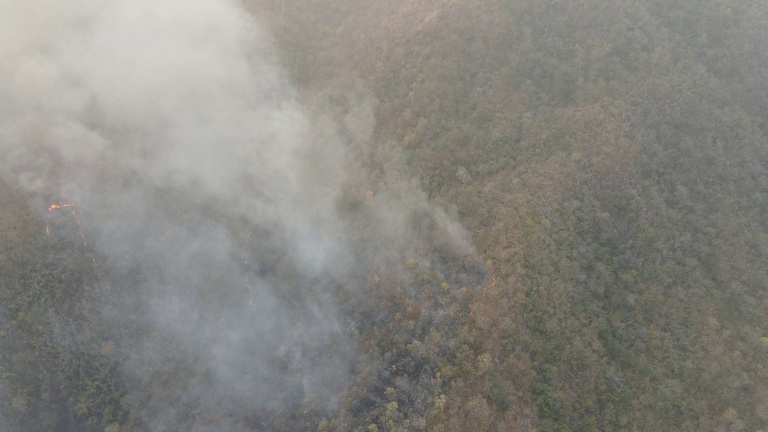fire: (40, 199, 97, 260), (465, 262, 502, 322), (239, 214, 260, 318)
smoke: (1, 1, 498, 431)
